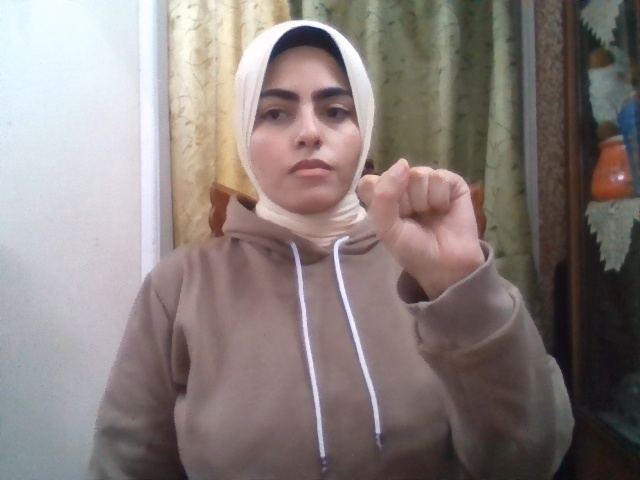S: (357, 159, 484, 277)
